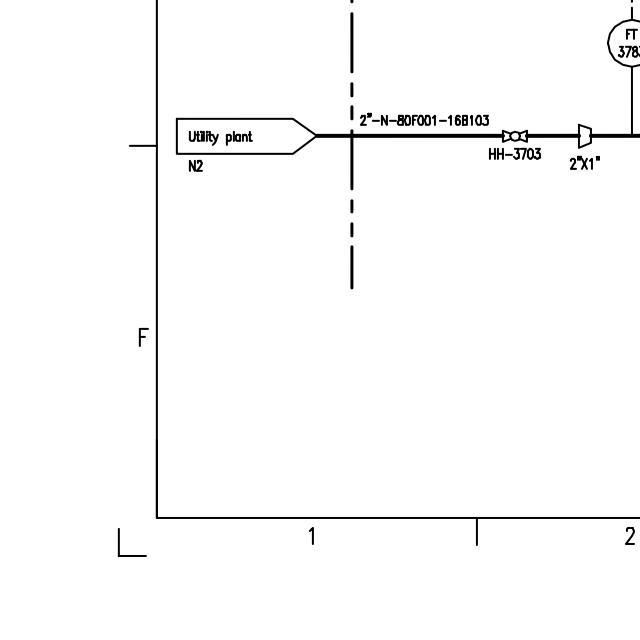BV2: (497, 127, 532, 145)
SP: (575, 120, 594, 150)
